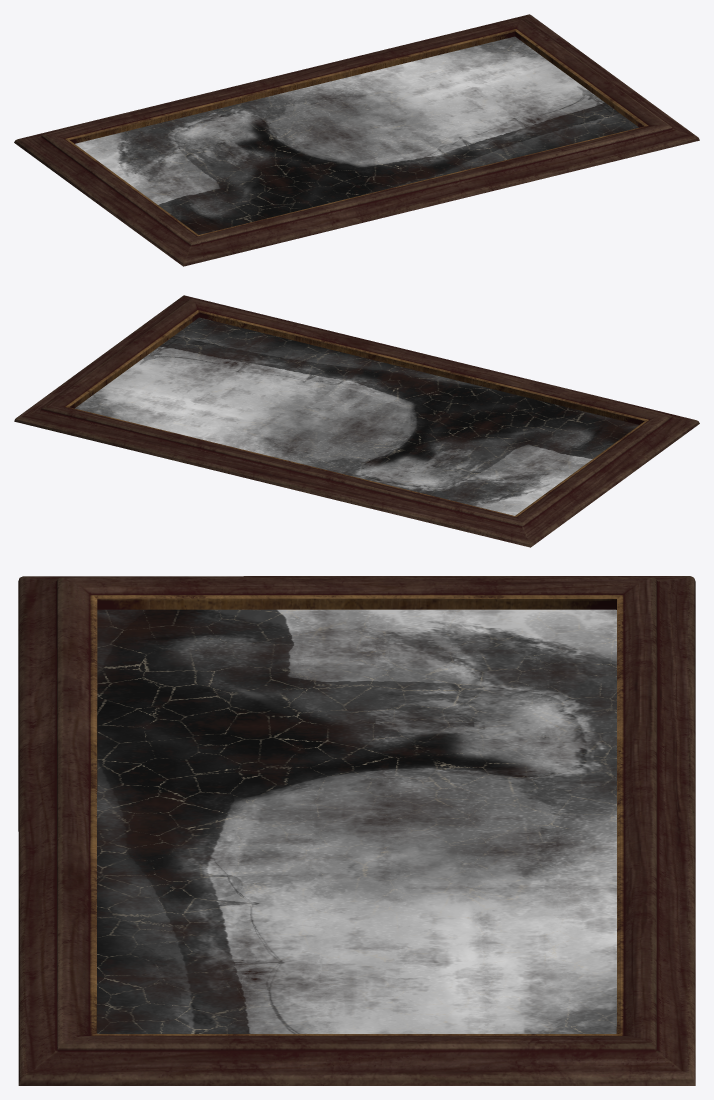
File: Low_Framed_Painting.fbx
The picture shows the model from 3 angles, top to bottom: view 1: azimuth 30°, elevation 25°; view 2: azimuth 150°, elevation 25°; view 3: azimuth 270°, elevation 25°; orthographic projection. The views are drawn at different scales.
Parts seen in each view (by area): view 1: Image, Frame; view 2: Image, Frame; view 3: Image, Frame.
Boxes of the visible parts, <box> form: Image: <box>75,36,638,234</box>; Frame: <box>14,14,699,266</box>; Image: <box>75,317,638,515</box>; Frame: <box>14,295,699,547</box>; Image: <box>97,609,616,1033</box>; Frame: <box>18,576,695,1085</box>.
Size of the model in its own units: 60.16 by 1.29 by 34.14.
Materials: 2 (2 with a texture image).
